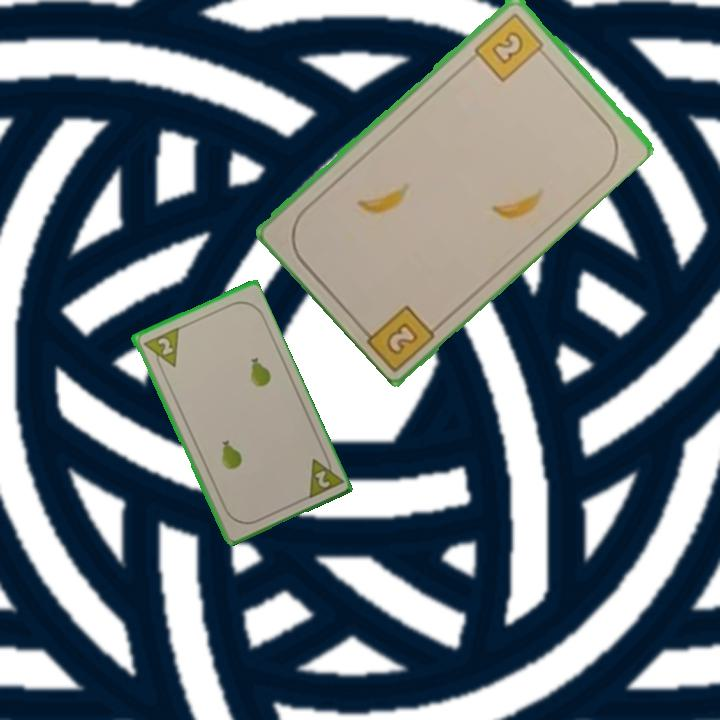2b: (471, 8, 551, 84), (382, 318, 422, 358)
2p: (302, 449, 344, 502), (153, 334, 176, 358)
